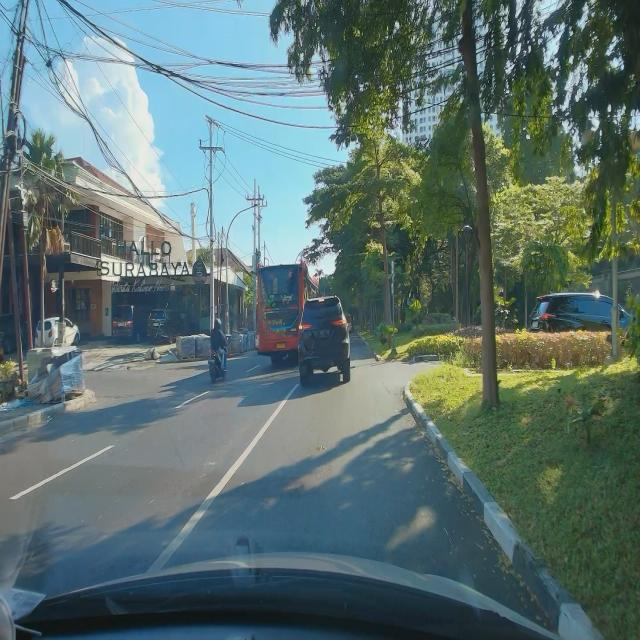bus: (256, 258, 321, 368)
car: (298, 295, 351, 387)
license-plate: (316, 329, 330, 338), (276, 342, 286, 349)
